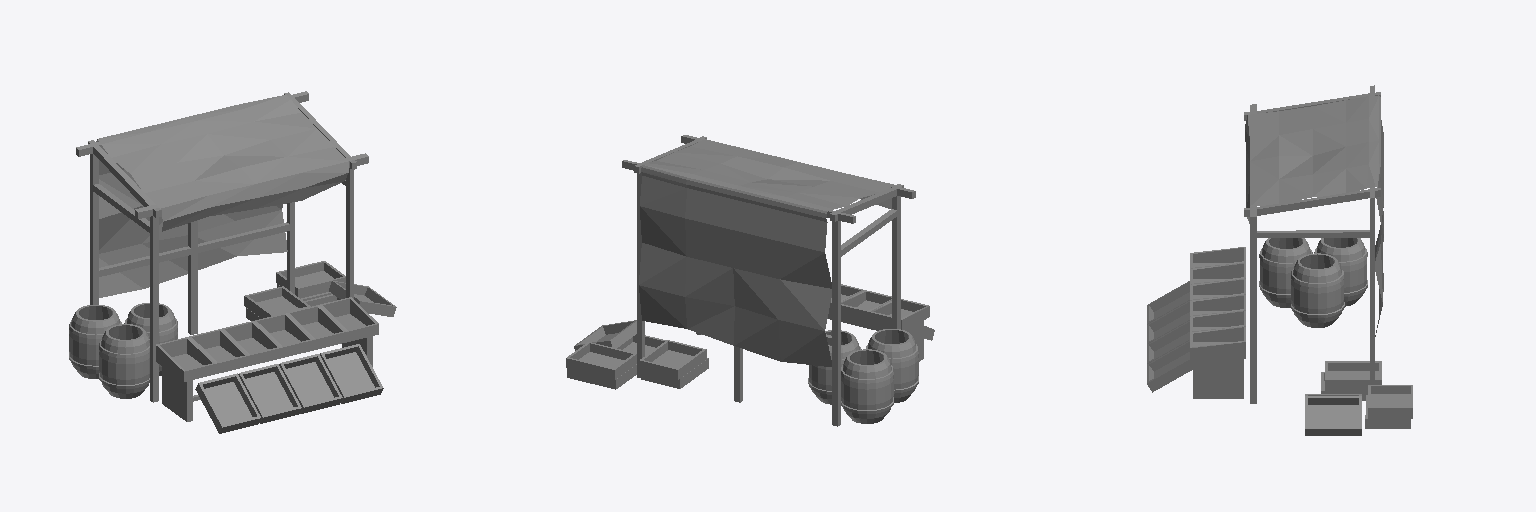
File: TradeTent1_2.obj
The picture shows the model from 3 angles: view 1: azimuth 30°, elevation 25°; view 2: azimuth 150°, elevation 25°; view 3: azimuth 270°, elevation 25°; orthographic projection.
Parts seen in each view (by area): view 1: TradeTent1; view 2: TradeTent1; view 3: TradeTent1.
Boxes of the visible parts, box(x1,y1,x2,y2) form: TradeTent1: box(69, 91, 396, 433); TradeTent1: box(566, 135, 934, 426); TradeTent1: box(1147, 85, 1412, 435).
Bounding box in the file's own units: 124 × 82.59 × 93.12.